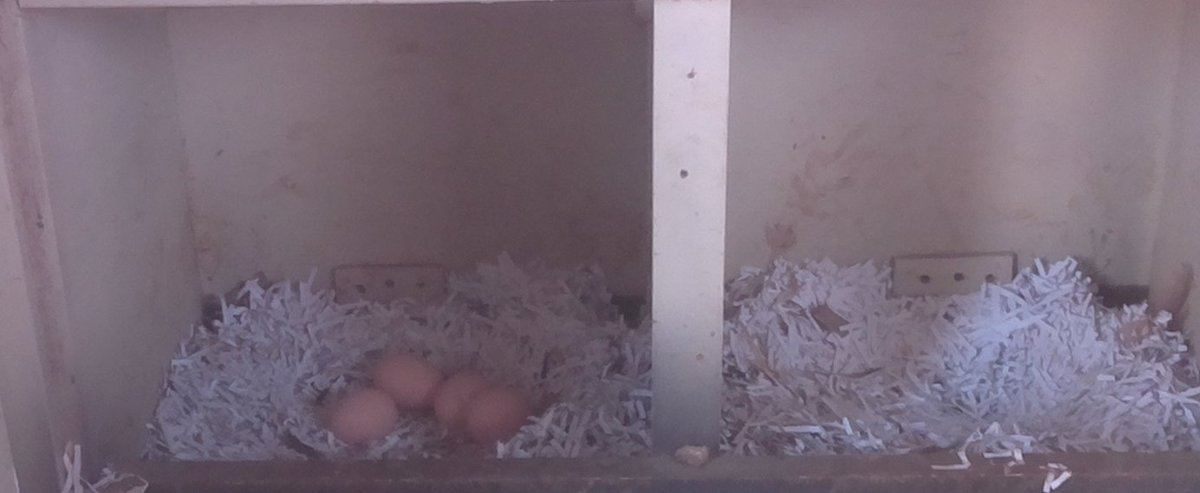egg: (324, 384, 403, 455), (361, 350, 448, 414), (461, 384, 543, 449), (425, 367, 493, 426)
